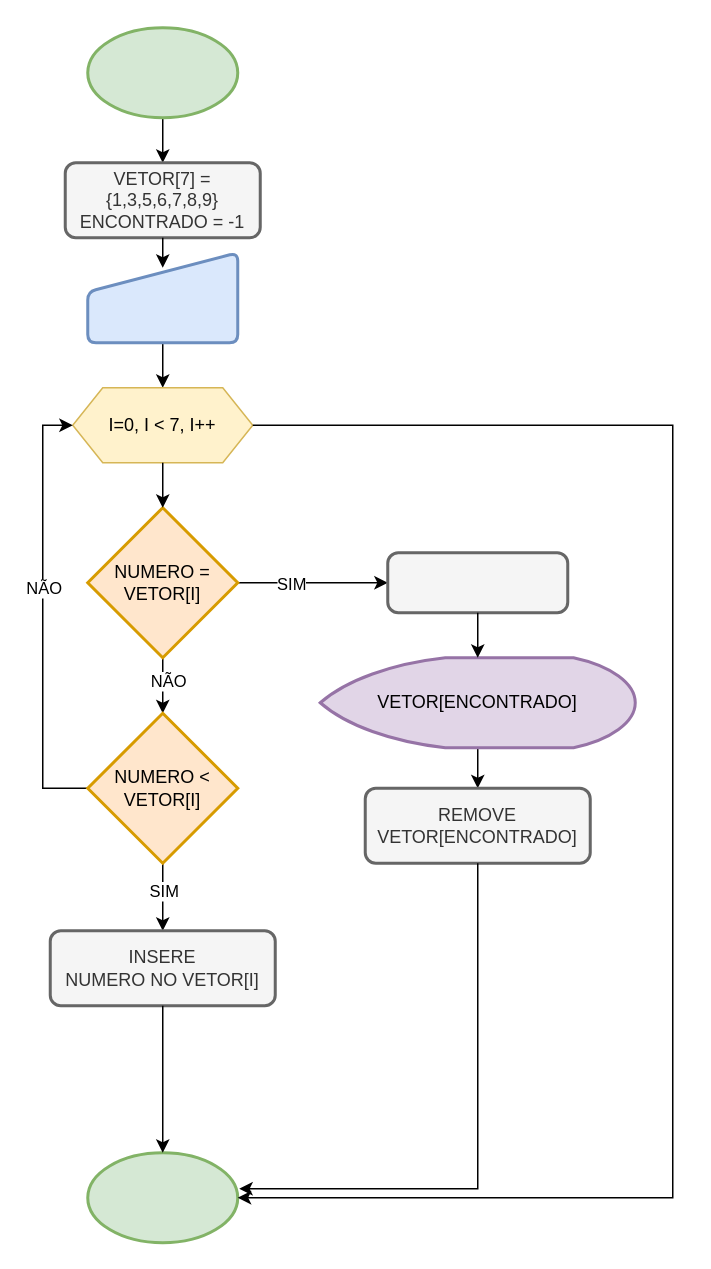
This 711x1269 diagram has some shape labels left out. Here are the shapes that lost their labels. From the top down, the box of each, then its label:
(86, 26, 238, 118): INICIO
(86, 250, 238, 344): NUMERO
(386, 550, 568, 614): ENCONTRADO = I
(86, 1150, 238, 1244): FIM
